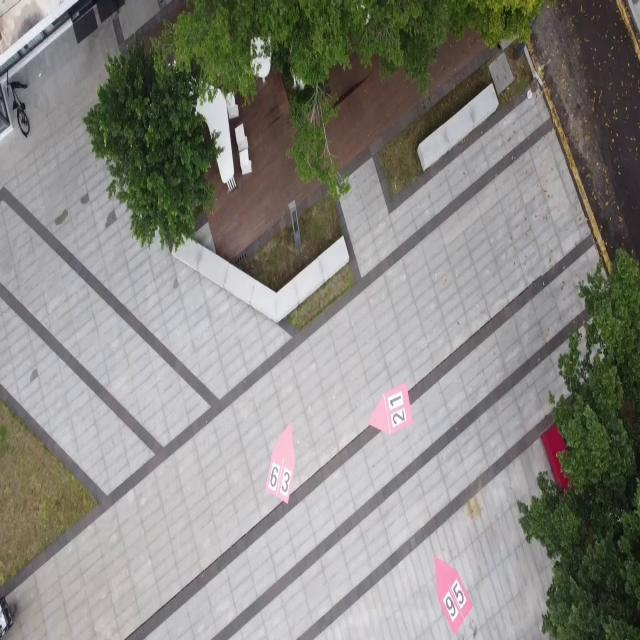-sign-: (419, 541, 484, 640), (258, 415, 304, 514), (366, 376, 423, 436)
